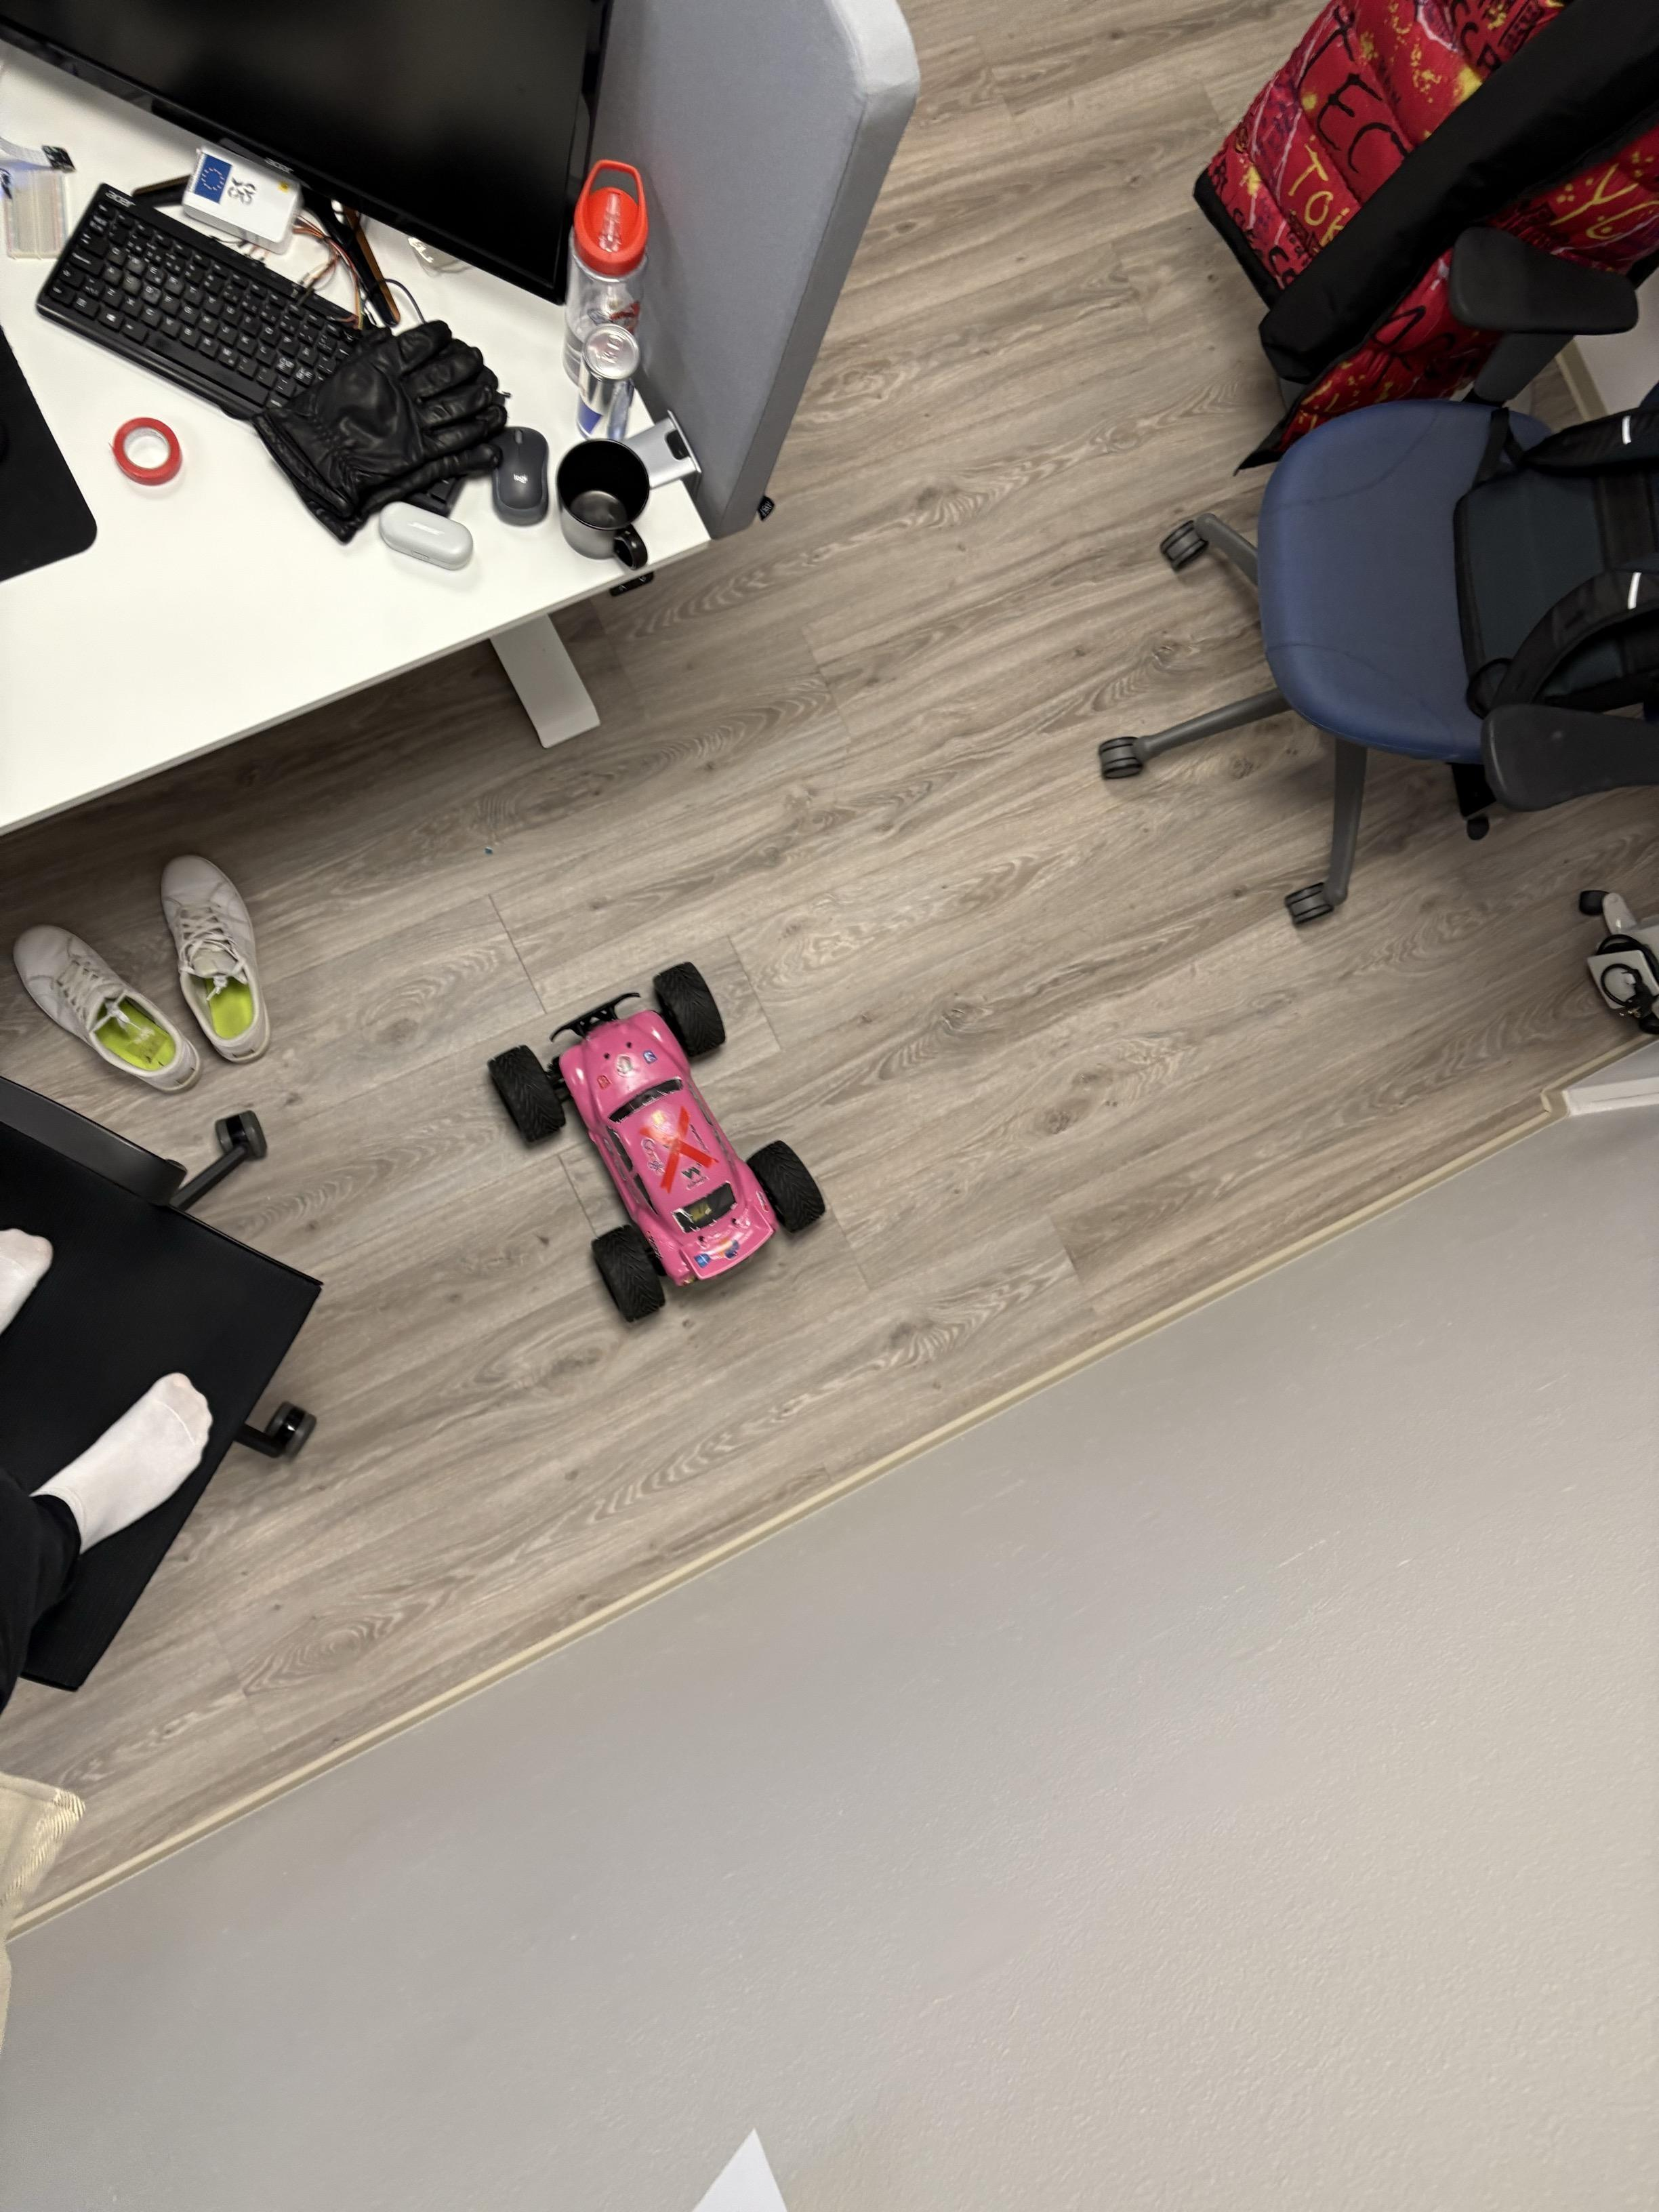Car: (427, 935, 887, 1369)
